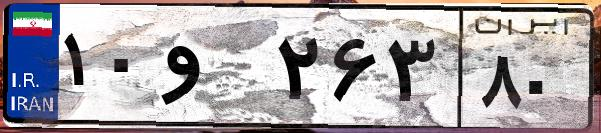0: (525, 38, 570, 115), (110, 28, 158, 98)
1: (57, 26, 110, 100)
2: (270, 28, 330, 110)
3: (385, 28, 445, 110)
6: (330, 28, 385, 110)
8: (475, 38, 525, 113)
و: (158, 20, 270, 120)
